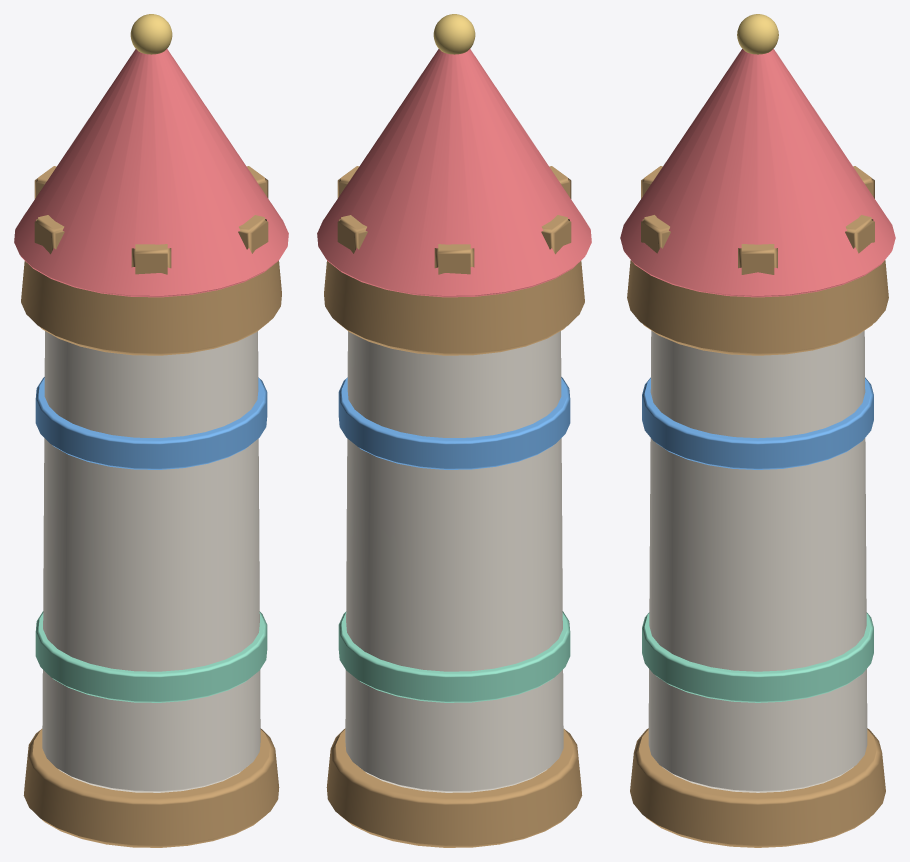
The model's file is castle_tower_round.glb.
The picture shows the model from 3 angles, left to right: view 1: azimuth 30°, elevation 25°; view 2: azimuth 150°, elevation 25°; view 3: azimuth 270°, elevation 25°; orthographic projection.
Parts seen in each view (by area): view 1: Body, Roof, Base, TopGallery, Band_4.5, Band_1.8, Finial, Tooth_4, Tooth_5, Tooth_3; view 2: Body, Roof, Base, TopGallery, Band_4.5, Band_1.8, Finial, Tooth_2, Tooth_1, Tooth_3; view 3: Body, Roof, Base, TopGallery, Band_4.5, Band_1.8, Finial, Tooth_0, Tooth_1, Tooth_5.
Boxes of the visible parts, x1,y1,x2,y2 form: Body: (42,331,260,792); Roof: (14,49,288,297); Base: (23,728,279,847); TopGallery: (21,261,281,355); Band_4.5: (35,377,267,469); Band_1.8: (35,611,267,702); Finial: (130,14,172,54); Tooth_4: (131,244,171,274); Tooth_5: (238,215,268,253); Tooth_3: (34,215,64,254); Body: (345,331,563,792); Roof: (317,49,591,297); Base: (326,728,582,847); TopGallery: (324,261,584,355); Band_4.5: (338,377,570,469); Band_1.8: (338,611,570,702); Finial: (433,14,475,54); Tooth_2: (434,244,474,274); Tooth_1: (337,215,367,253); Tooth_3: (541,215,571,254); Body: (648,330,867,792); Roof: (620,49,895,297); Base: (630,728,885,847); TopGallery: (627,260,888,355); Band_4.5: (642,377,873,469); Band_1.8: (642,612,873,702); Finial: (737,14,778,54); Tooth_0: (738,244,777,274); Tooth_1: (845,215,874,253); Tooth_5: (641,215,670,253).
Bounding box in the file's own units: 2.89 × 9.04 × 2.89.
